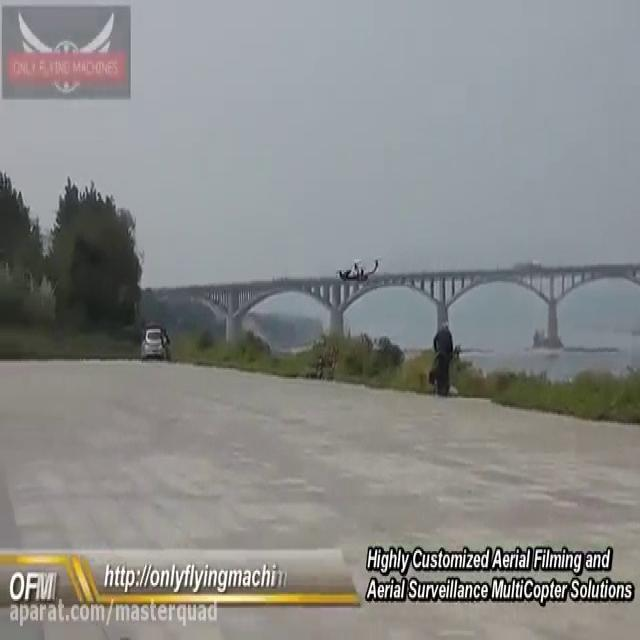drone: (333, 252, 382, 288)
